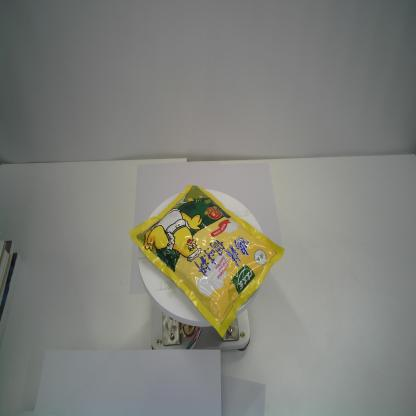Seasoner: (128, 183, 285, 342)
